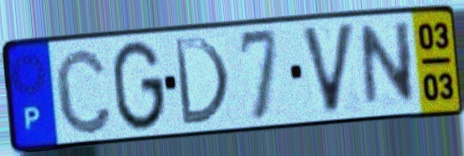7: (236, 27, 281, 126)
C: (51, 44, 115, 138)
D: (171, 34, 233, 128)
G: (110, 38, 168, 135)
N: (357, 17, 418, 111)
V: (298, 20, 358, 119)
